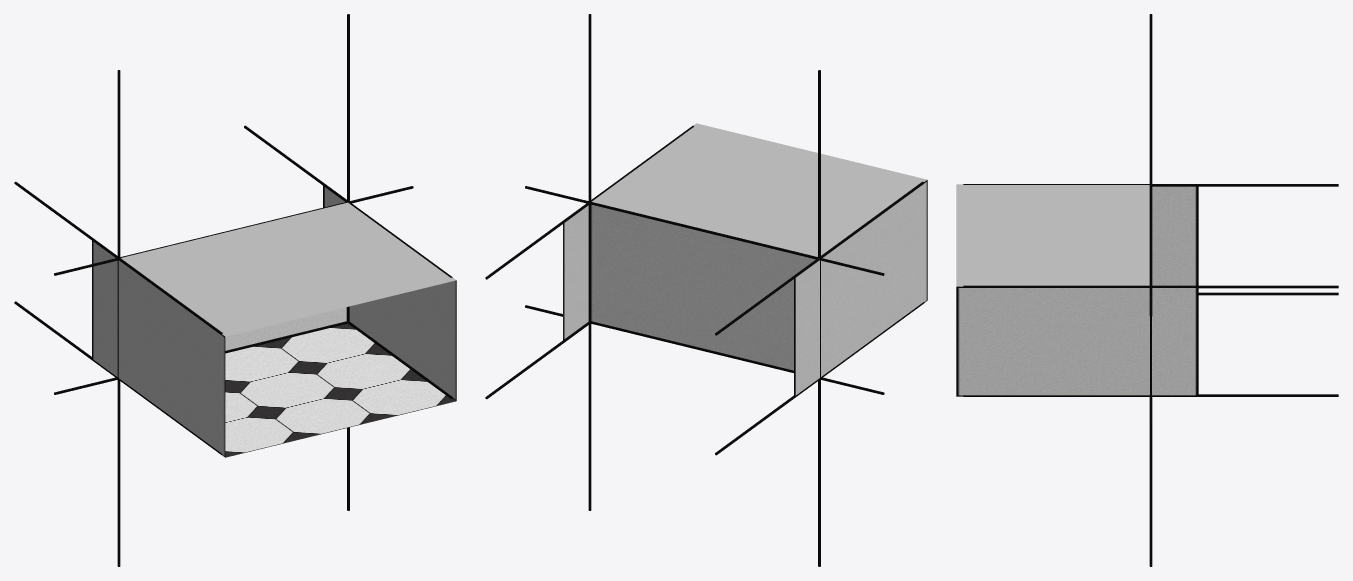
File: Banheiro1.fbx
3 renders of one model, left to right at view 1: azimuth 30°, elevation 25°; view 2: azimuth 150°, elevation 25°; view 3: azimuth 270°, elevation 25°, orthographic. The views are drawn at different scales.
Visible parts, largest first — view 1: Plane.006, Plane.004, Plane.007, Plane.021, Cylinder.004, Cylinder.005, Plane.005, Cylinder.003; view 2: Plane.005, Plane.006, Plane.007, Cylinder.004, Plane.021, Cylinder.005, Cylinder.003; view 3: Plane.021, Plane.006, Plane.007, Cylinder.005, Cylinder.004.
Part boxes in pixels (<box>): Plane.006: <box>121,202,455,336</box>; Plane.004: <box>225,323,455,457</box>; Plane.007: <box>92,241,225,457</box>; Plane.021: <box>323,186,456,400</box>; Cylinder.004: <box>117,14,349,566</box>; Cylinder.005: <box>14,125,452,454</box>; Plane.005: <box>225,307,347,350</box>; Cylinder.003: <box>54,186,413,394</box>; Plane.005: <box>591,204,815,370</box>; Plane.006: <box>592,123,926,256</box>; Plane.007: <box>794,180,927,396</box>; Cylinder.004: <box>588,14,820,566</box>; Plane.021: <box>563,205,588,339</box>; Cylinder.005: <box>485,125,923,455</box>; Cylinder.003: <box>525,186,884,394</box>; Plane.021: <box>956,286,1198,396</box>; Plane.006: <box>956,184,1149,286</box>; Plane.007: <box>1152,186,1198,285</box>; Cylinder.005: <box>963,184,1338,396</box>; Cylinder.004: <box>1149,14,1152,566</box>.
Bounding box in the file's own units: 620 × 820 × 631.
